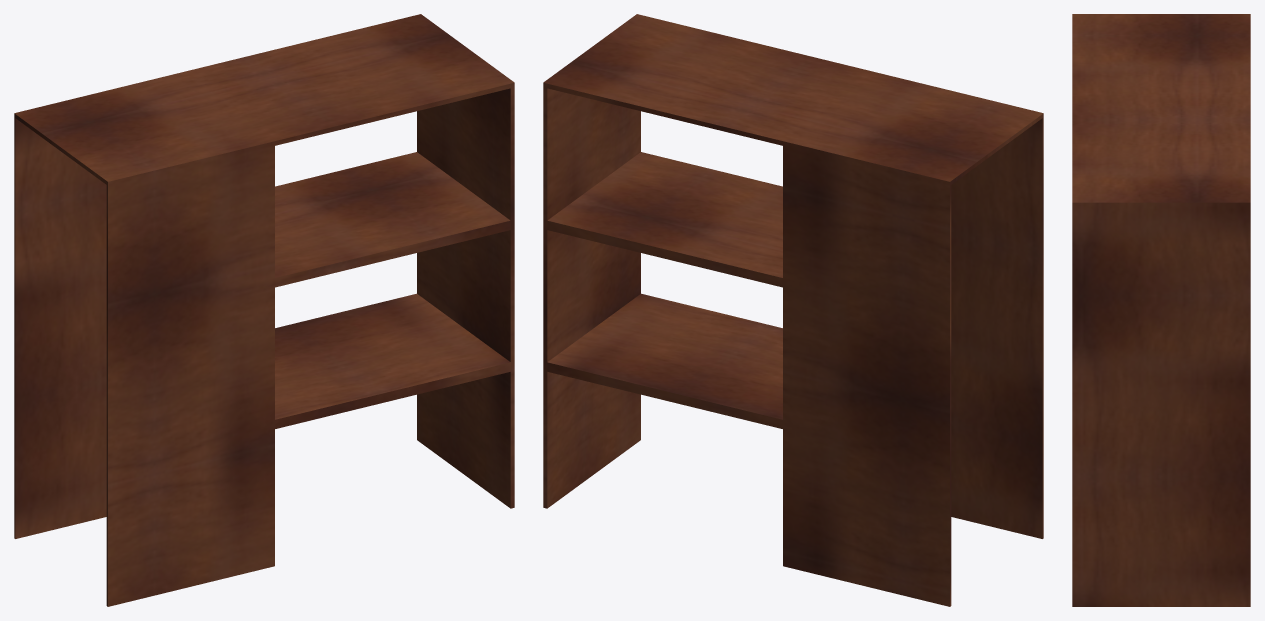
File: RightShelf_FBX.fbx
3 views of the same model, side by side, from view 1: azimuth 30°, elevation 25°; view 2: azimuth 150°, elevation 25°; view 3: azimuth 270°, elevation 25° (orthographic). The views are drawn at different scales.
Parts seen in each view (by area): view 1: pCube19; view 2: pCube19; view 3: pCube19.
Part boxes in pixels (x1,y1,x2,y2): pCube19: (14,14,514,606); pCube19: (543,14,1043,606); pCube19: (1072,14,1250,606).
Size of the model in its own units: 10.01 by 10 by 4.
